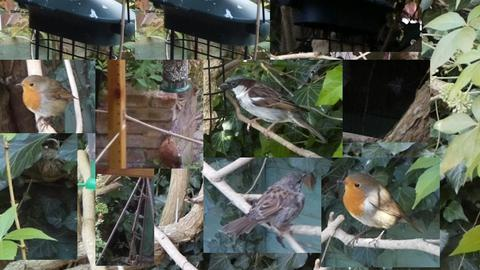dunnock: (218, 172, 306, 238)
robin: (336, 172, 425, 252), (15, 75, 80, 132)
sparrow: (218, 75, 328, 142)
